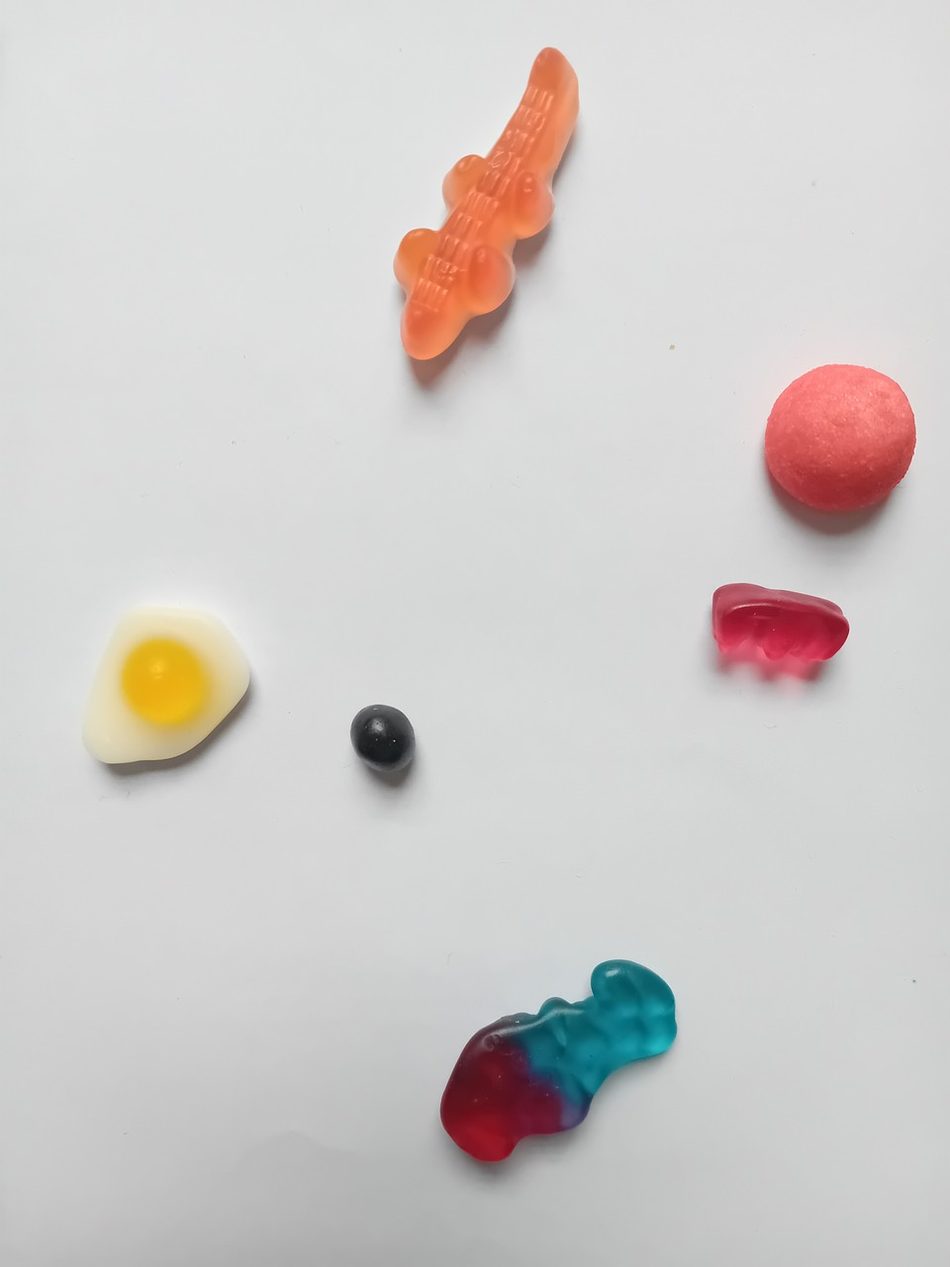crocodile_orange: (390, 38, 599, 369)
dragibus_noir: (344, 695, 421, 777)
oeuf_oeuf: (67, 601, 263, 772)
ourson_rouge: (696, 571, 858, 678)
schtroumpf_bleu-rouge: (430, 952, 682, 1164)
tagada_fraise: (752, 355, 925, 520)
